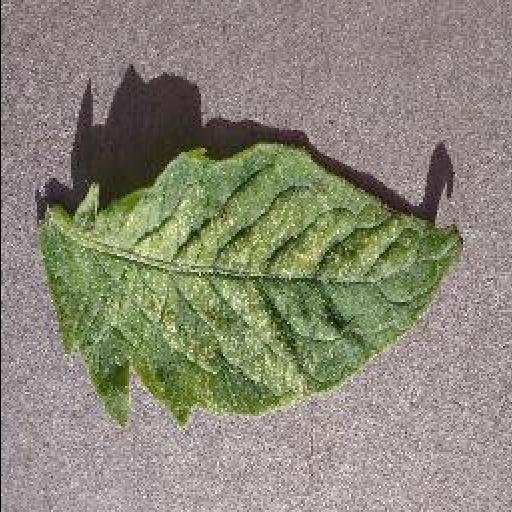disease_tomato: (36, 141, 462, 427)
